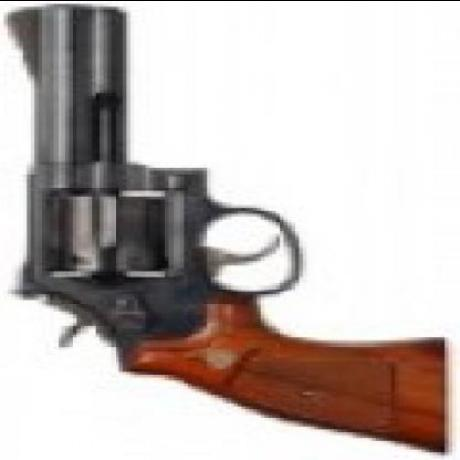weapon: (1, 3, 453, 458)
